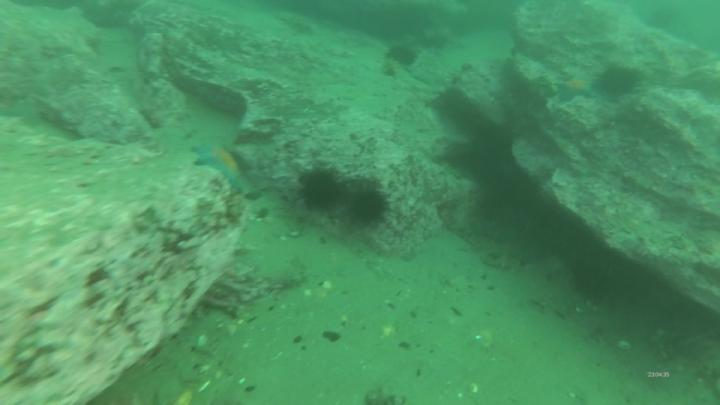echinus: (300, 170, 341, 214), (349, 188, 386, 226), (598, 67, 637, 95), (390, 43, 418, 65)
starfish: (192, 144, 248, 191), (555, 79, 594, 102)
